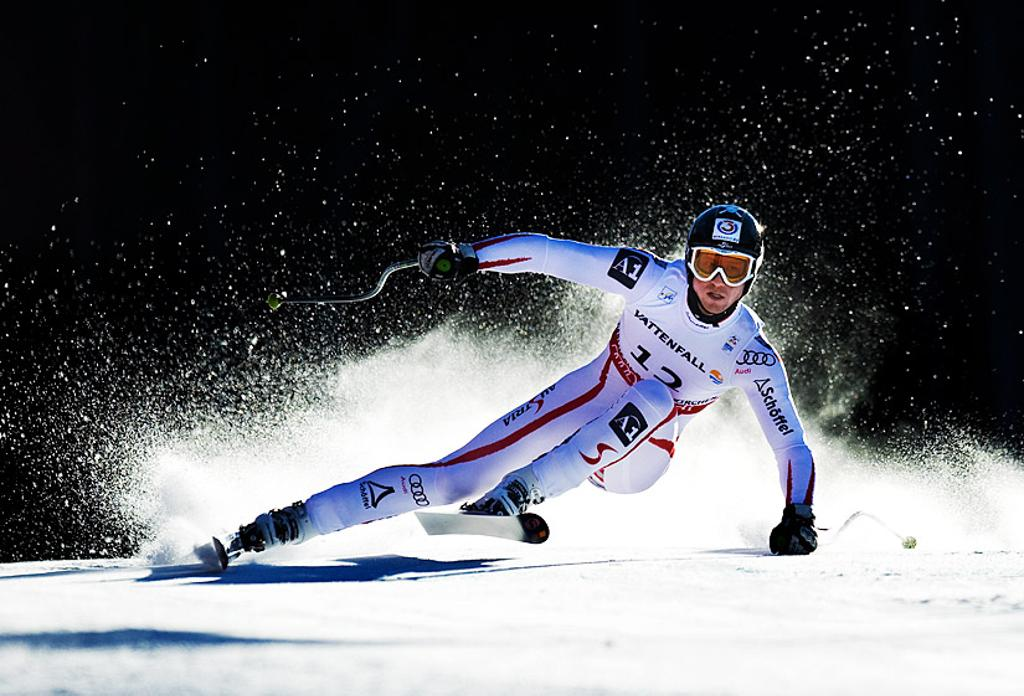face: (690, 234, 746, 314)
